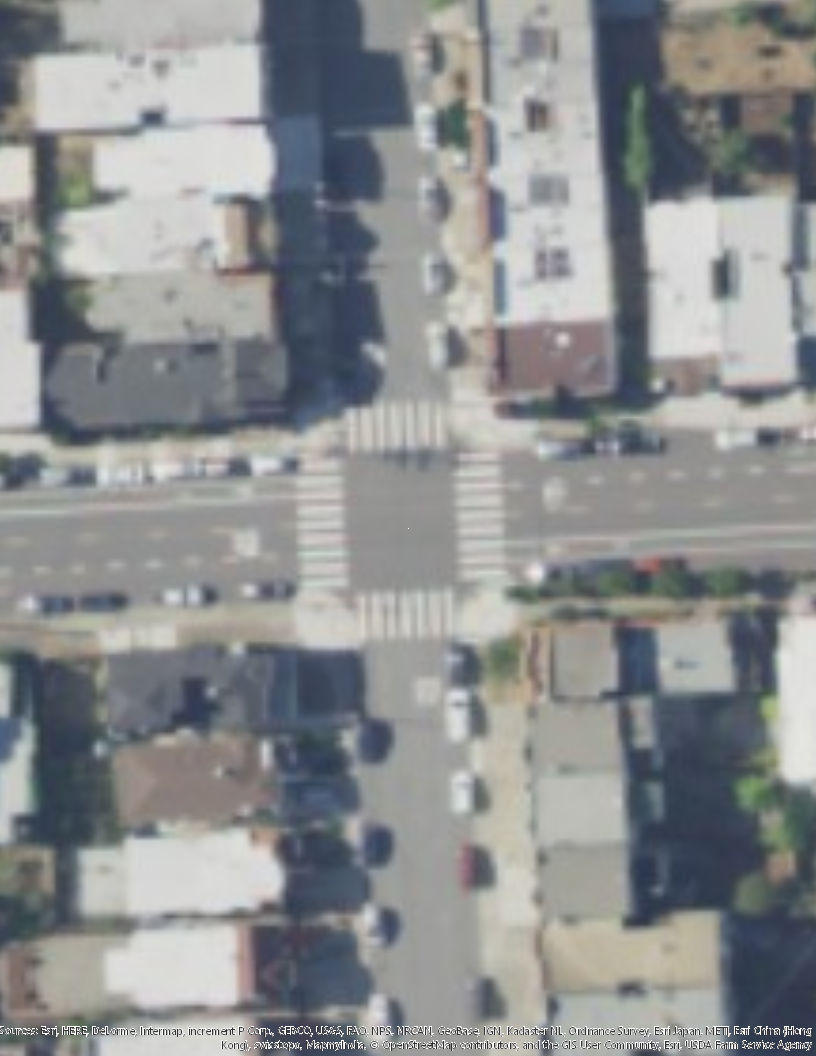zebracross: (452, 451, 508, 585), (296, 460, 348, 591), (357, 584, 456, 642), (350, 400, 448, 455)
